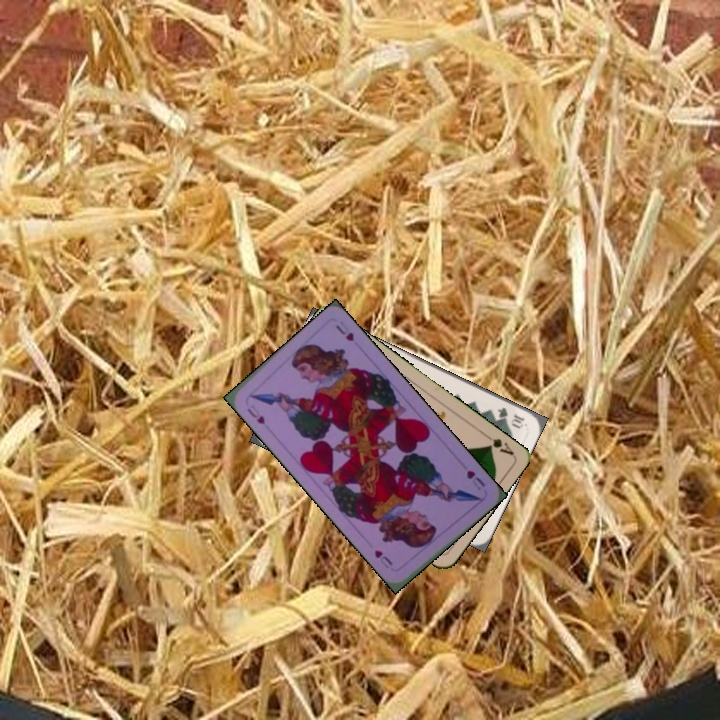G10: (493, 403, 527, 431)
GA: (479, 429, 516, 458)
HU: (462, 466, 488, 493), (243, 401, 268, 427)
